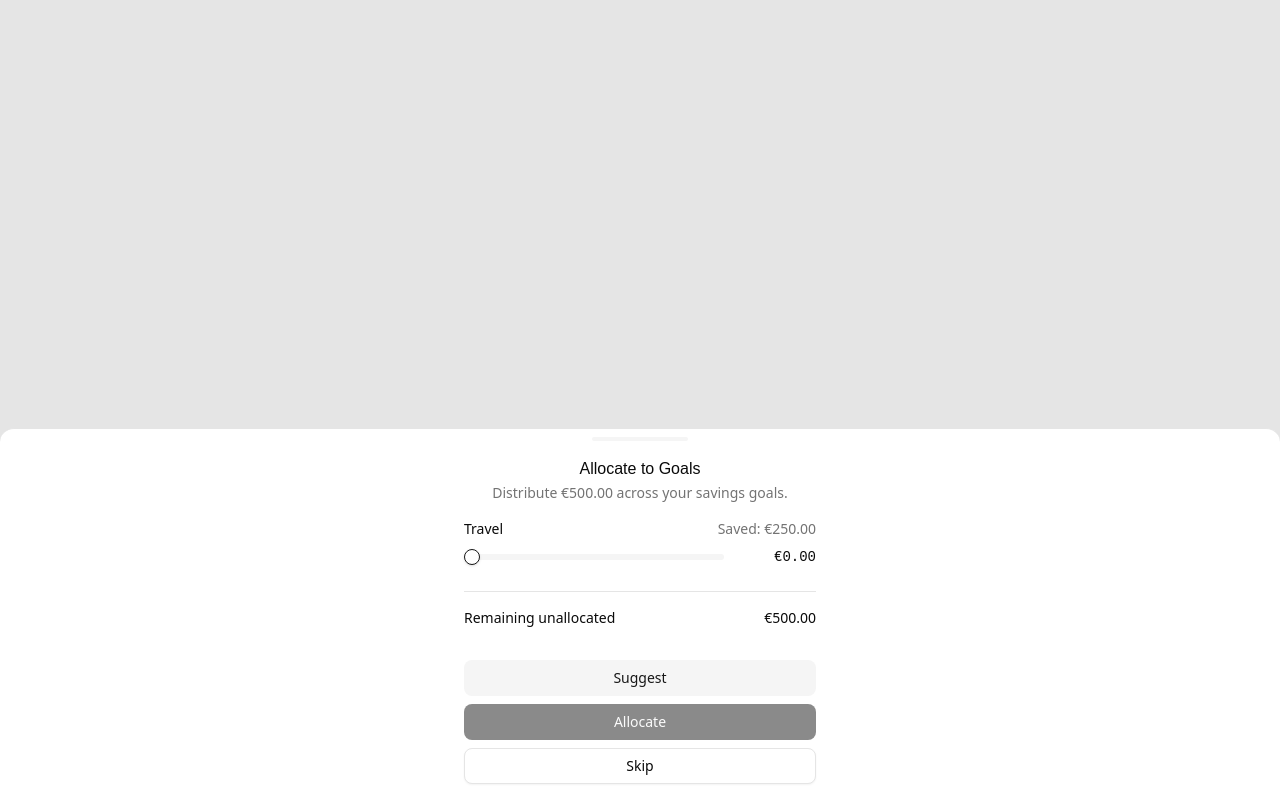
Test: GoalAdjustDrawer with a contribution goal › suggests the goal own per-period contribution
Expected: the text "Travel" is shown, [464,519,503,539]
What coordinates should you click on to do the following:
click the button "Suggest"
I would click on:
 (640, 678)
Its box is [464,660,816,696].
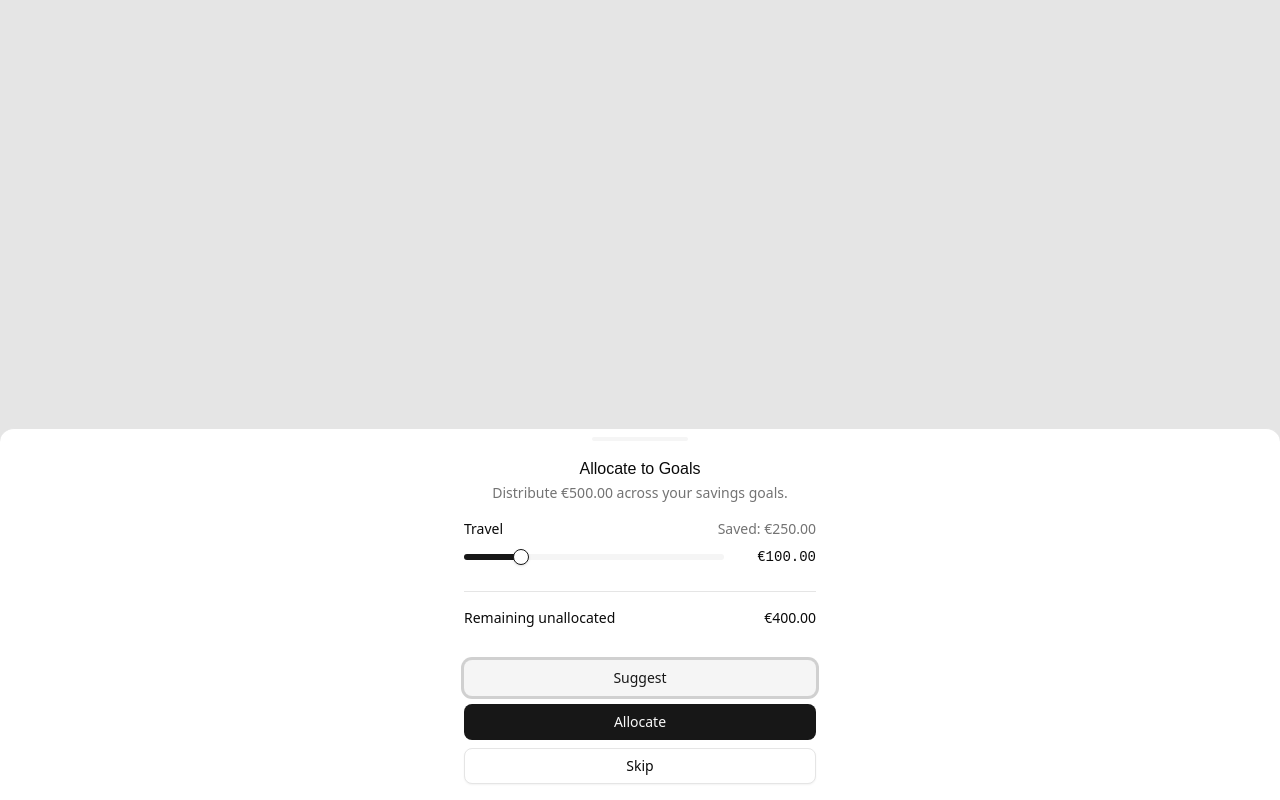
Result: the text "€100.00" is shown at [757,549,816,565]
